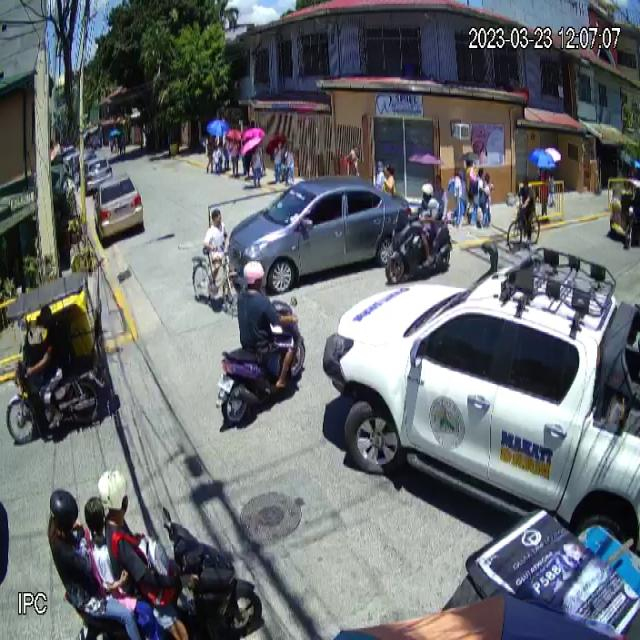Car: (322, 237, 640, 556), (228, 175, 412, 295), (92, 171, 144, 245)
Motorcycle: (215, 296, 307, 431), (384, 204, 453, 285)
Tricycle: (5, 272, 113, 448)
